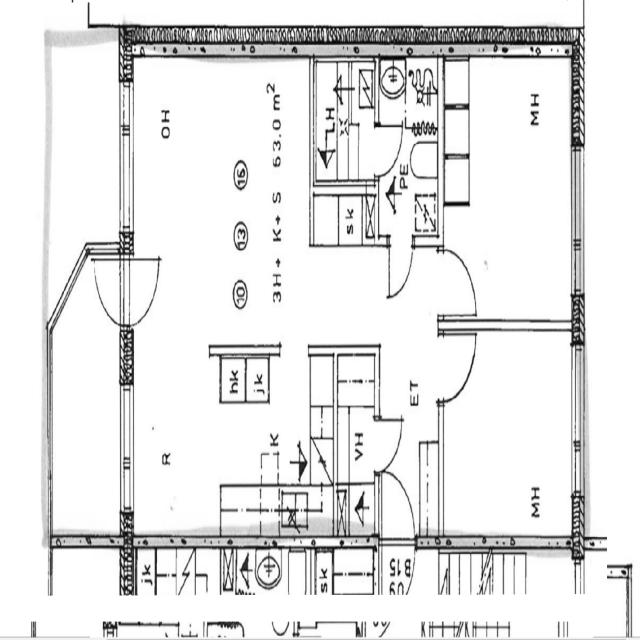door: (439, 244, 480, 327), (122, 250, 162, 330), (437, 325, 478, 403), (90, 245, 125, 328), (379, 468, 416, 546), (372, 411, 405, 473), (374, 119, 404, 179), (386, 240, 414, 300)
window: (115, 78, 138, 245), (567, 333, 590, 489), (116, 377, 138, 518), (567, 134, 589, 273)
zone: (131, 53, 313, 326), (131, 328, 337, 530), (441, 51, 578, 328), (440, 328, 579, 540), (378, 53, 440, 243), (312, 54, 376, 189), (336, 355, 377, 540), (312, 192, 369, 248)
